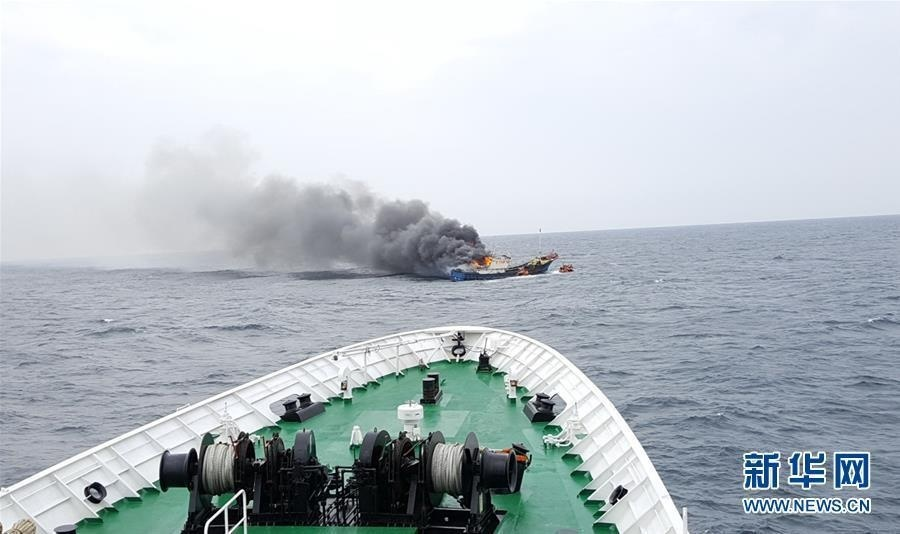fire: (473, 255, 493, 269)
